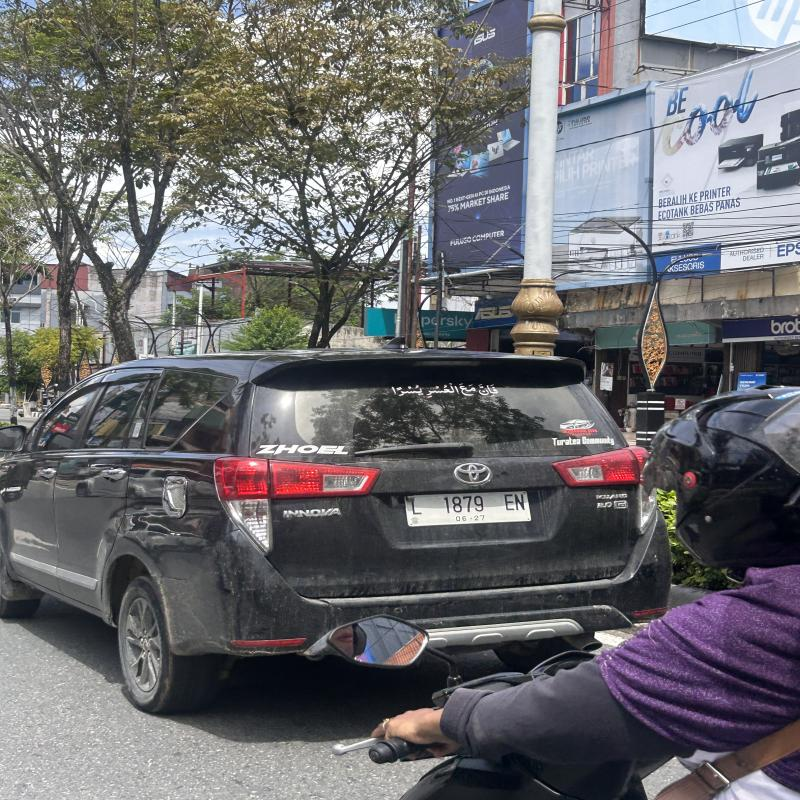license plate on a car: (404, 491, 533, 525)
